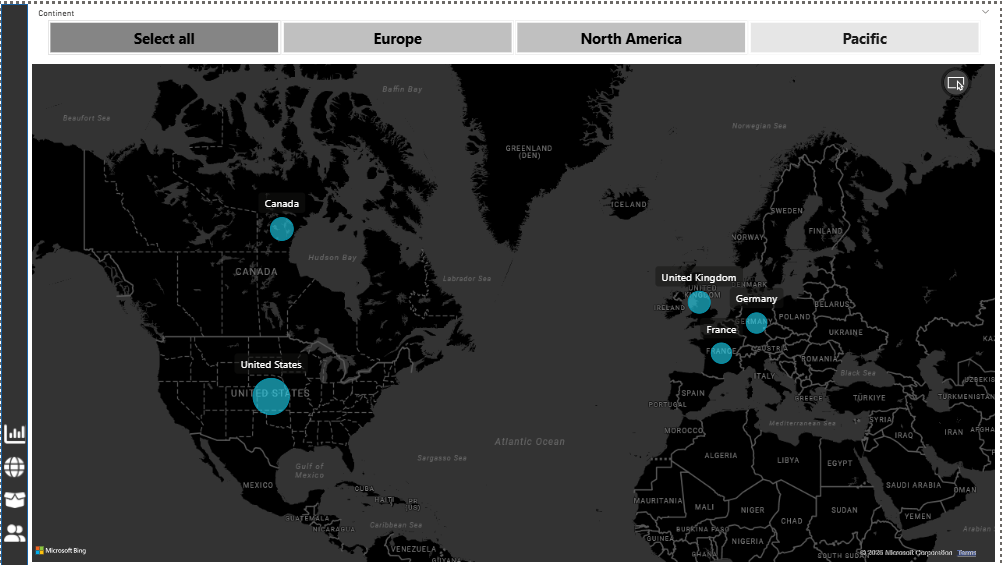

This screenshot's page, from the dashboard's own definition file:
{"tool":"powerbi","page":{"name":"Map","canvas":[1280,720],"ordinal":3},"visuals":[{"type":"shape","title":"Left Nav Background","box":[0,0,34.5,720.7],"z":0},{"type":"map","fields":{"Category":["Territory Lookup.Country"],"Size":["Measure Table.Total Orders"]},"box":[34.8,71.8,1245.2,648.7],"z":1000},{"type":"slicer","fields":{"Values":["Territory Lookup.Continent"]},"box":[34.8,0,1245.2,71.8],"z":2000},{"type":"actionButton","box":[0,524.4,35.6,53.3],"z":3000},{"type":"actionButton","box":[0,608.9,35.6,53.3],"z":4000},{"type":"actionButton","box":[0,651.1,35.6,53.3],"z":5000},{"type":"actionButton","box":[0,566.7,34,52],"z":6000}]}

Visuals, with their boxes in screenshot pixels (x1, y1, x2, y2):
"Left Nav Background" shape: region(0, 5, 27, 562)
map - Territory Lookup.Country x Measure Table.Total Orders: region(27, 61, 988, 561)
slicer - Territory Lookup.Continent: region(27, 5, 988, 61)
actionButton: region(0, 410, 27, 451)
actionButton: region(0, 475, 27, 516)
actionButton: region(0, 508, 27, 549)
actionButton: region(0, 443, 26, 483)
